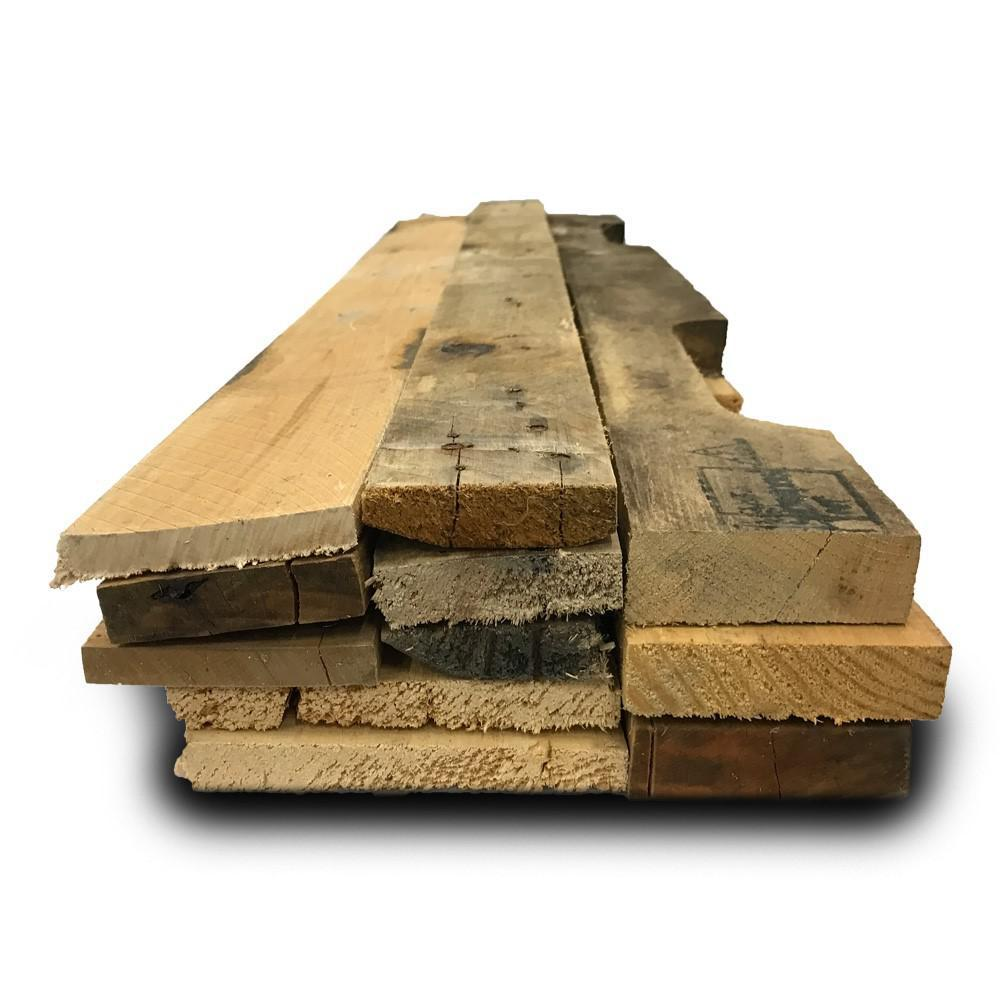wood: (51, 191, 946, 835)
